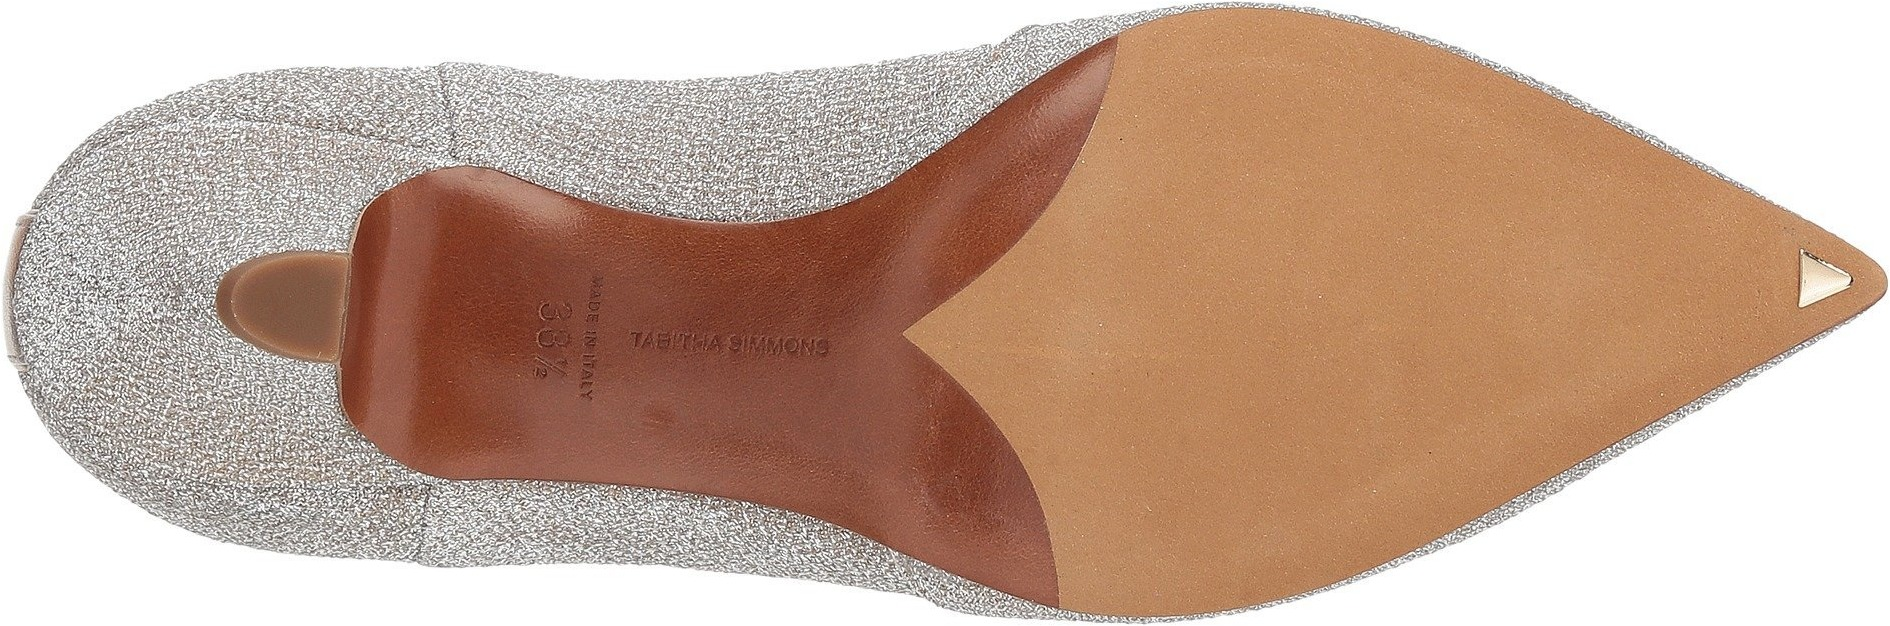exclude: (313, 10, 923, 624), (2, 21, 366, 603)
other: (1060, 293, 1349, 583), (1407, 154, 1671, 403), (1140, 28, 1399, 277), (967, 131, 1128, 285), (248, 269, 331, 351)
triangle: (1791, 232, 1867, 318)
